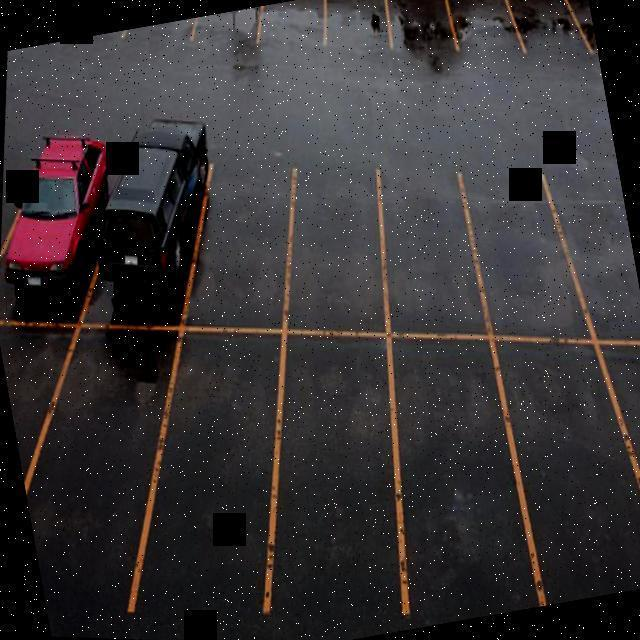car: (68, 116, 234, 342), (0, 133, 127, 323)
free: (0, 280, 232, 639), (100, 298, 340, 634), (341, 302, 567, 624), (218, 302, 450, 612), (442, 305, 640, 615), (344, 132, 522, 354), (0, 294, 126, 606), (436, 144, 616, 354), (164, 129, 330, 356), (256, 137, 428, 350), (525, 133, 640, 352), (435, 0, 529, 73), (492, 0, 584, 73), (311, 0, 404, 66), (371, 0, 462, 66), (248, 0, 334, 63), (192, 4, 279, 65), (122, 14, 218, 65), (66, 24, 157, 72), (550, 0, 600, 76), (8, 35, 96, 60)
